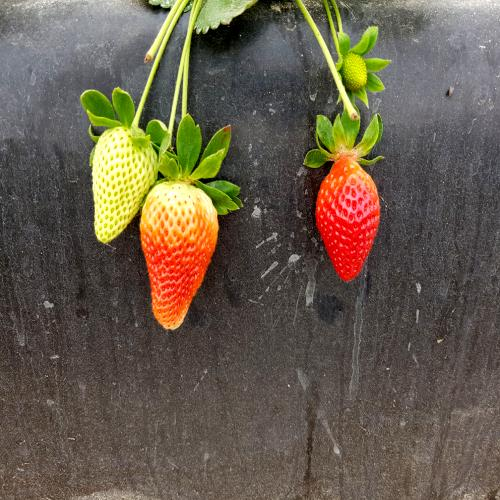partially-ripe: (139, 170, 225, 339)
ripe: (317, 151, 388, 302)
